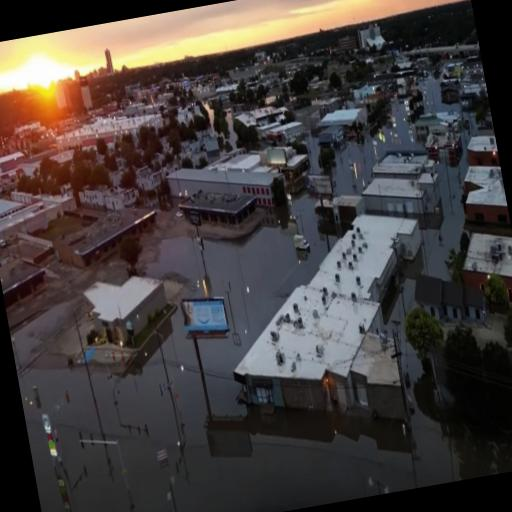flood: (6, 191, 512, 512), (401, 138, 468, 278), (332, 96, 424, 194), (419, 72, 461, 118), (308, 133, 319, 170), (403, 281, 414, 308)
house: (220, 268, 400, 434), (296, 208, 430, 306), (162, 148, 284, 222), (48, 201, 164, 273), (80, 269, 172, 359), (356, 146, 444, 226), (410, 257, 493, 339), (454, 218, 512, 322), (178, 181, 258, 237), (455, 158, 511, 236), (0, 259, 52, 327), (310, 188, 368, 232), (410, 104, 462, 151), (76, 178, 140, 214), (276, 145, 314, 197), (316, 103, 370, 139), (462, 128, 500, 170), (354, 16, 388, 56), (266, 118, 306, 150), (316, 124, 346, 150)
